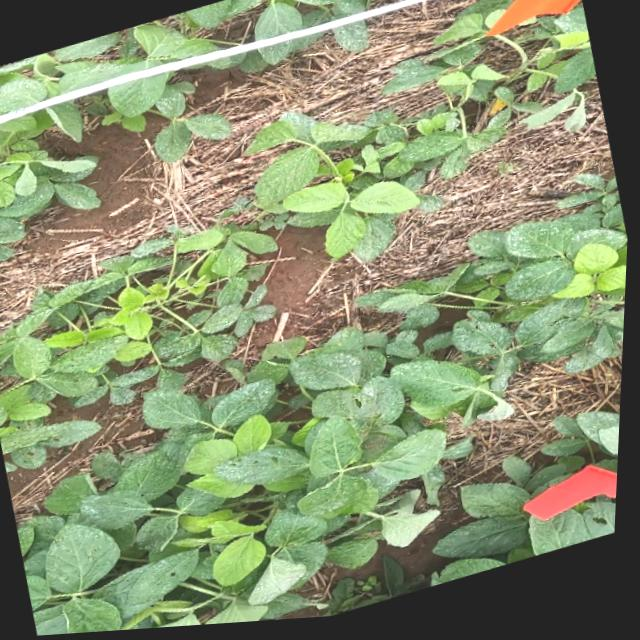soy_plant: (0, 0, 630, 637), (0, 0, 380, 114), (0, 74, 231, 257), (439, 419, 624, 591), (217, 39, 312, 75), (336, 25, 368, 54)
